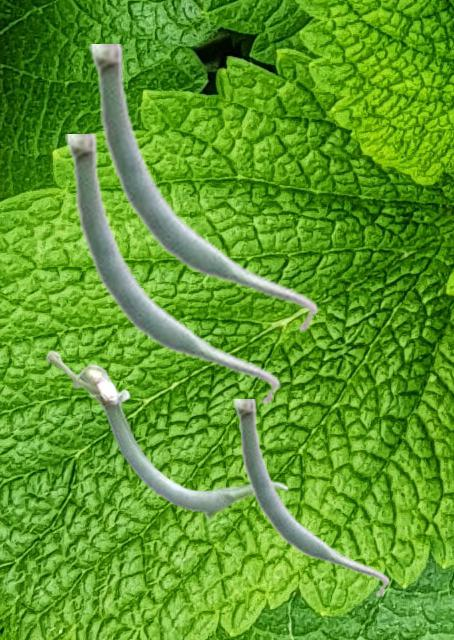french_bean: (89, 44, 318, 333), (65, 134, 280, 406), (45, 349, 288, 519), (233, 399, 389, 597)
